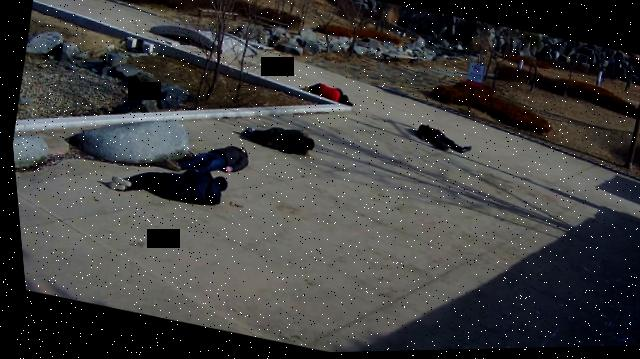fall: (99, 150, 231, 218), (158, 131, 249, 186), (231, 115, 317, 159), (409, 123, 475, 163), (295, 77, 356, 108)
